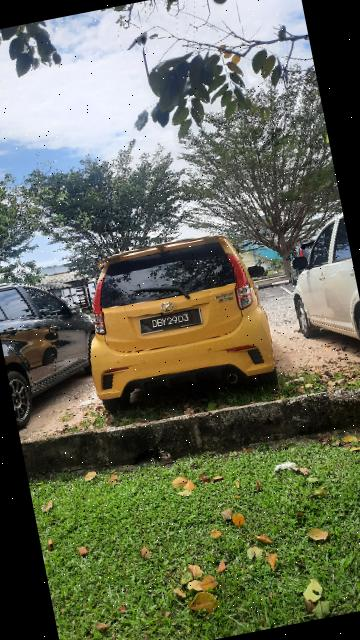License_Plate: (136, 306, 206, 338)
car: (64, 224, 289, 423)
